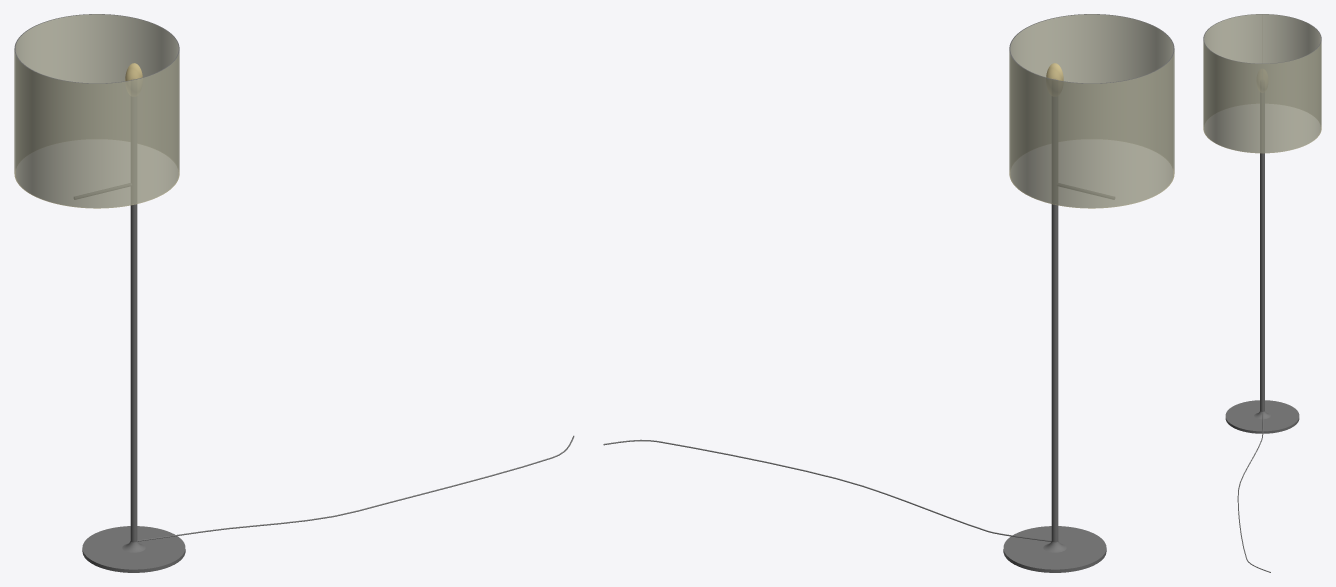
The model's file is IKEA-IKEA_STOCKHOLM_Lampadaire-3D.obj.
3 views of the same model, side by side, from view 1: azimuth 30°, elevation 25°; view 2: azimuth 150°, elevation 25°; view 3: azimuth 270°, elevation 25° (orthographic). The views are drawn at different scales.
Parts seen in each view (by area): view 1: Donut001, Cylinder001, Cylinder002, Loft001; view 2: Donut001, Cylinder001, Cylinder002, Loft001; view 3: Donut001, Cylinder001, Cylinder002, Loft001.
Part boxes in pixels (left/top/right/bottom): Donut001: left=14, top=14, right=179, bottom=208; Cylinder001: left=82, top=526, right=185, bottom=572; Cylinder002: left=130, top=79, right=137, bottom=542; Loft001: left=137, top=435, right=574, bottom=541; Donut001: left=1009, top=14, right=1174, bottom=208; Cylinder001: left=1003, top=526, right=1106, bottom=572; Cylinder002: left=1051, top=79, right=1058, bottom=542; Loft001: left=603, top=439, right=1051, bottom=541; Donut001: left=1203, top=14, right=1321, bottom=153; Cylinder001: left=1225, top=400, right=1299, bottom=433; Cylinder002: left=1260, top=93, right=1264, bottom=411; Loft001: left=1237, top=412, right=1270, bottom=572.
Size of the model in its own units: 1861 by 1640 by 480.
